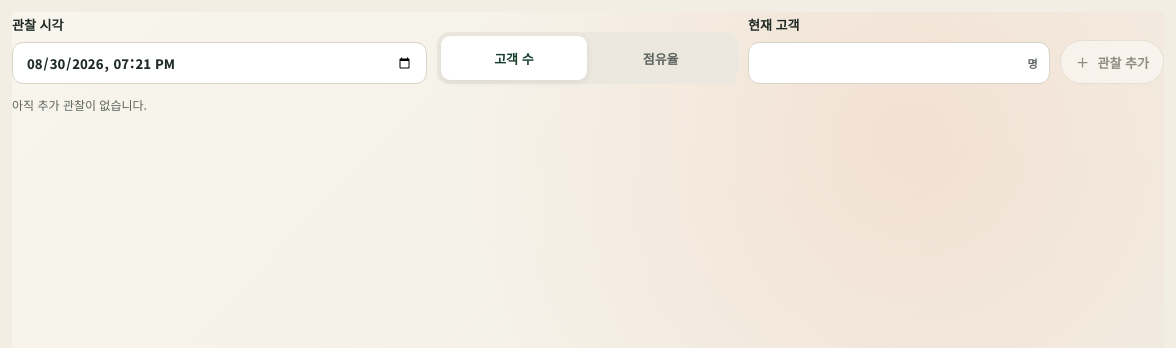
Test: ObservationManager › shows a recoverable validation error when the observation date is cleared
The image size is (1176, 348).
Clear the field labelled "관찰 시각" at (219, 63), box x1=12 y1=42 x2=426 y2=84
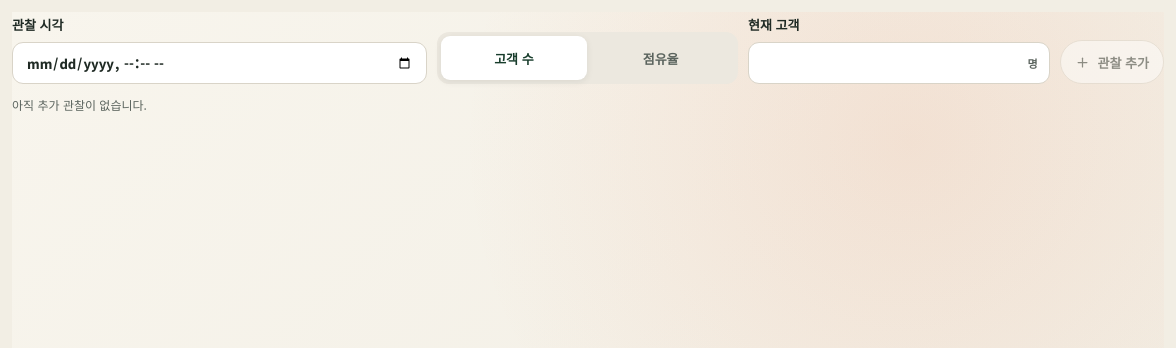
Type "10" into the number field at (899, 63), box x1=748 y1=42 x2=1050 y2=84
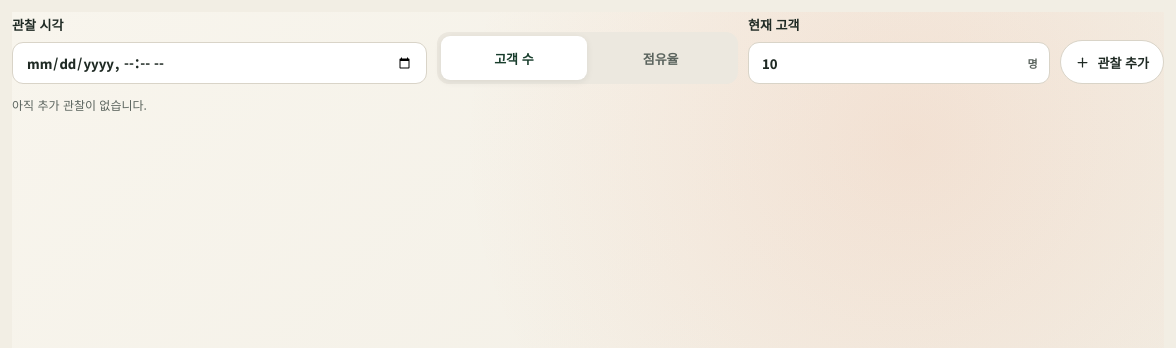
Click the button "관찰 추가" at (1112, 62), box x1=1060 y1=40 x2=1164 y2=84
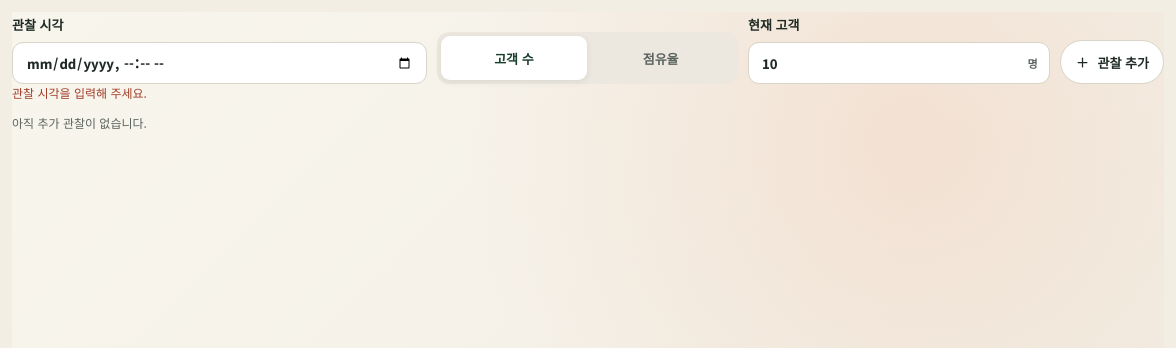
Check: the message reads "관찰 시각을 입력해 주세요.", box x1=12 y1=84 x2=147 y2=101
